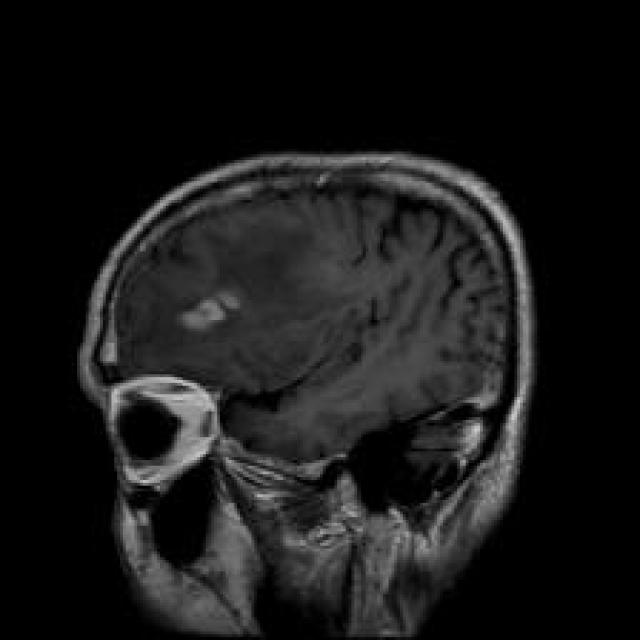glioma_tumor: (157, 260, 280, 348)
